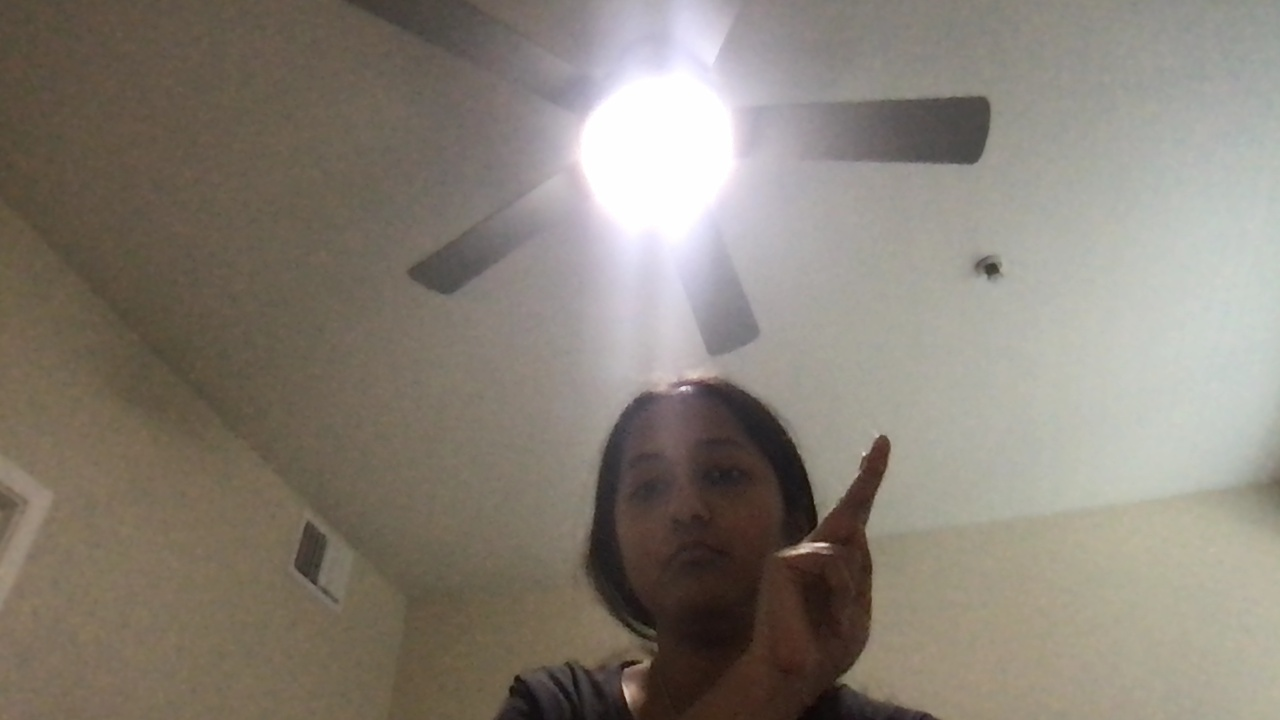k: (800, 422, 916, 720)
